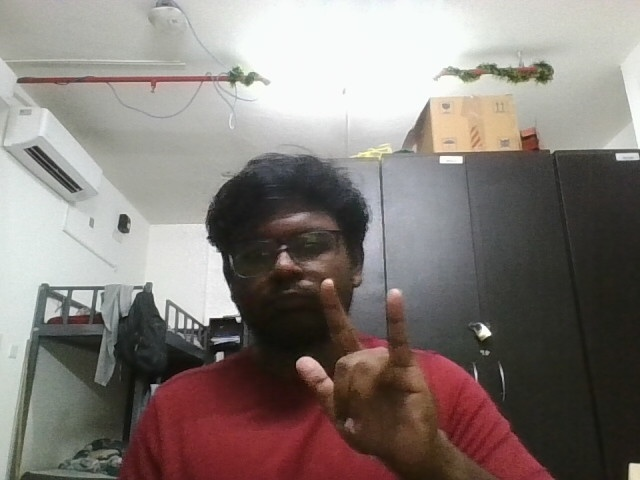I Love You: (285, 271, 477, 468)
